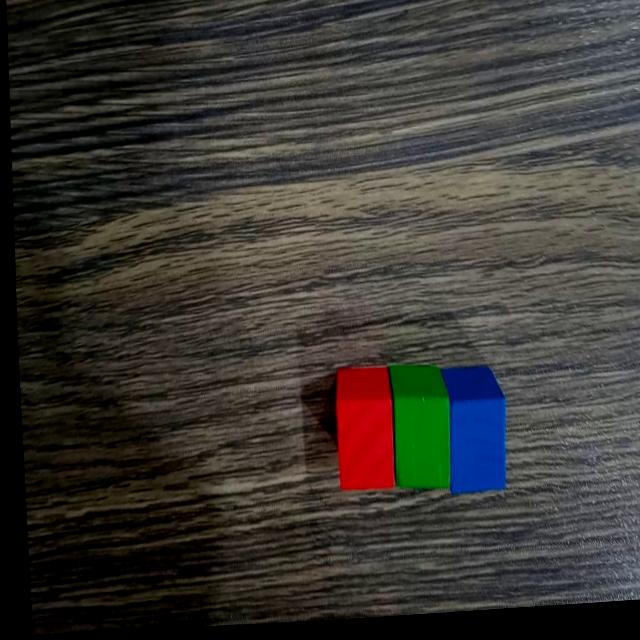cube: (440, 363, 508, 509), (326, 365, 393, 501), (384, 362, 448, 504)
